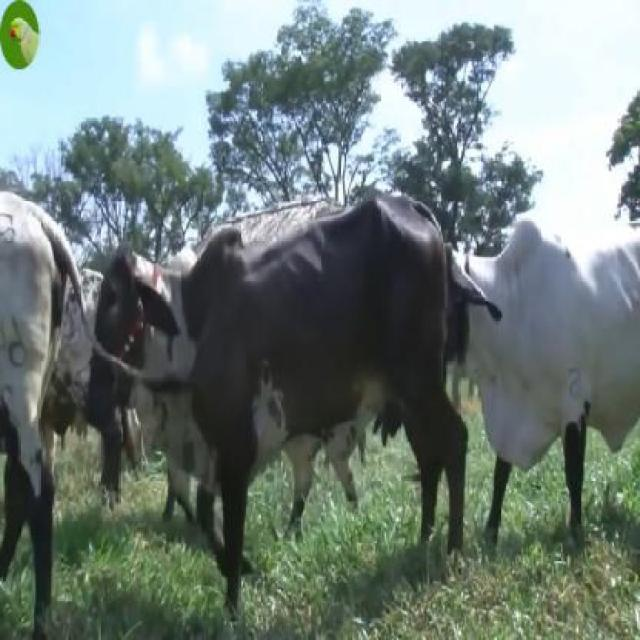Cow: (86, 189, 468, 603)
